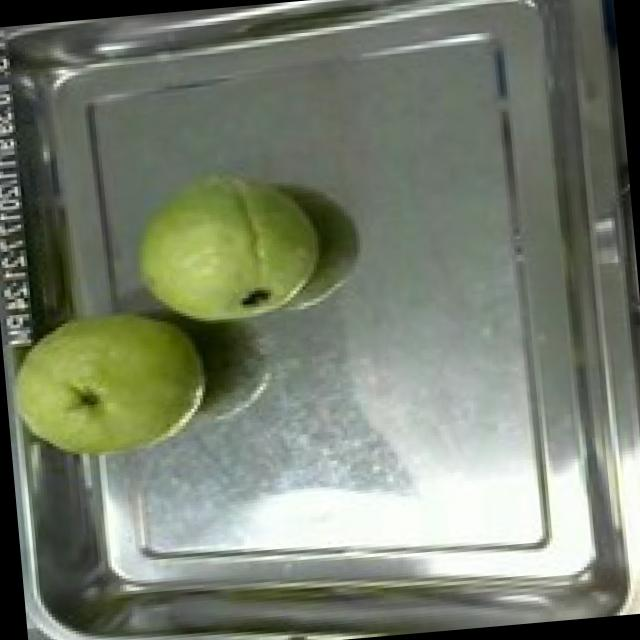Fruit: (114, 143, 336, 340), (0, 287, 222, 475)
